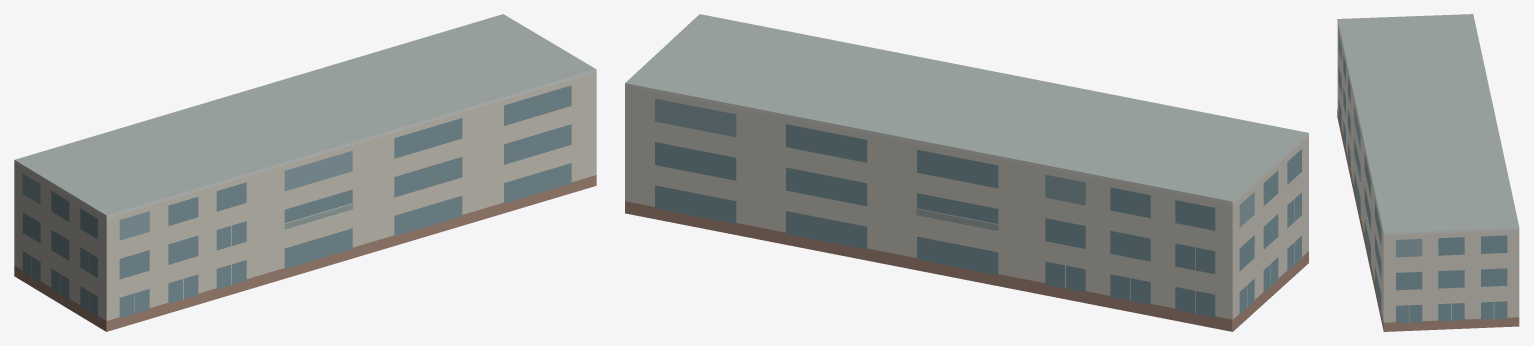
The model's file is survey-upis-32994629.glb.
The picture shows the model from 3 angles, left to right: view 1: azimuth 30°, elevation 25°; view 2: azimuth 150°, elevation 25°; view 3: azimuth 270°, elevation 25°; orthographic projection. The views are drawn at different scales.
Visible parts, largest first — view 1: survey-upis-32994629.tmp; view 2: survey-upis-32994629.tmp; view 3: survey-upis-32994629.tmp.
Part boxes in pixels (x1,y1,x2,y2): survey-upis-32994629.tmp: (14,14,596,331); survey-upis-32994629.tmp: (625,14,1308,331); survey-upis-32994629.tmp: (1337,14,1519,331).
Bounding box in the file's own units: 43.53 × 9.15 × 15.28.
